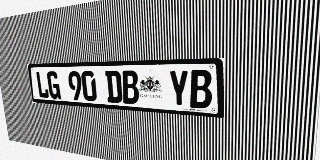0: (81, 71, 97, 102)
9: (67, 71, 83, 101)
B: (189, 70, 212, 109), (121, 70, 140, 104)
D: (105, 71, 123, 103)
G: (46, 71, 61, 99)
L: (35, 71, 49, 98)
Y: (168, 70, 189, 108)
